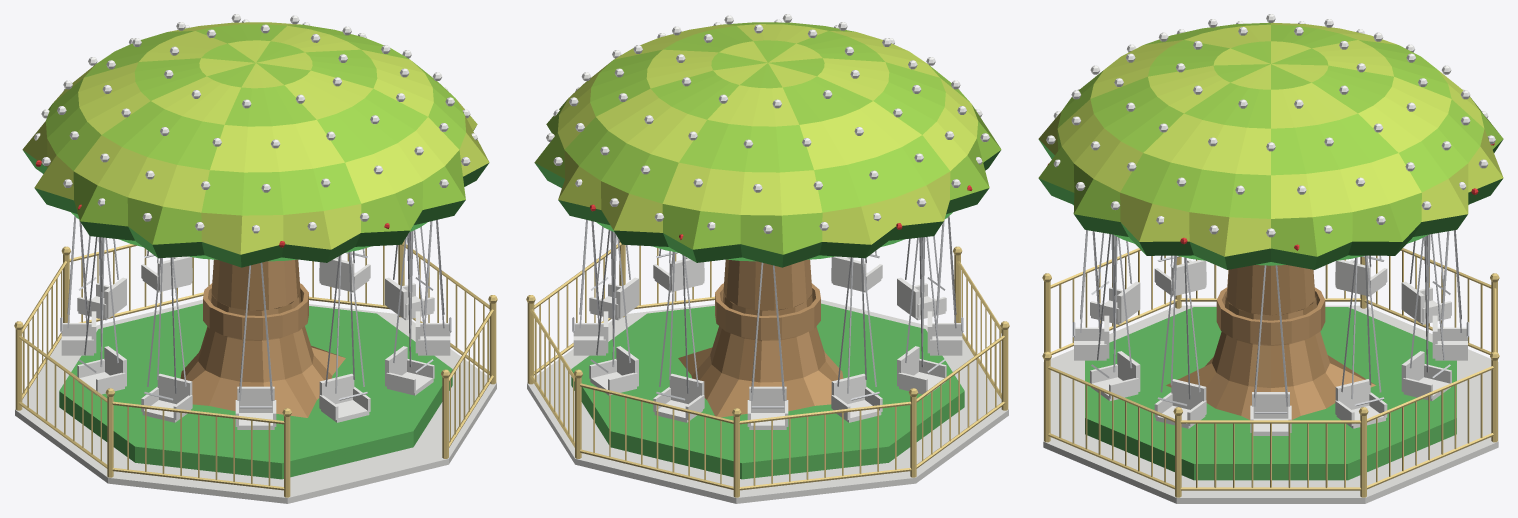
3 renders of one model, left to right at view 1: azimuth 30°, elevation 25°; view 2: azimuth 150°, elevation 25°; view 3: azimuth 270°, elevation 25°, orthographic.
Visible parts, largest first — view 1: rotor, base, swing9, swing7, swing10, swing6, swing8, swing5, swing11, swing0, swing4, swing3 (+1 smaller); view 2: rotor, base, swing3, swing5, swing2, swing6, swing4, swing7, swing1, swing0, swing8, swing9 (+1 smaller); view 3: rotor, base, swing1, swing11, swing2, swing10, swing0, swing3, swing9, swing4, swing8, swing5 (+1 smaller).
Part boxes in pixels (x1=…): rotor: x1=22, y1=14, x2=489, y2=310; base: x1=14, y1=240, x2=497, y2=503; swing9: x1=319, y1=251, x2=370, y2=422; swing7: x1=141, y1=257, x2=192, y2=422; swing10: x1=385, y1=230, x2=434, y2=395; swing6: x1=77, y1=236, x2=126, y2=395; swing8: x1=235, y1=262, x2=276, y2=429; swing5: x1=60, y1=216, x2=96, y2=355; swing11: x1=415, y1=219, x2=451, y2=355; swing0: x1=385, y1=226, x2=434, y2=320; swing4: x1=77, y1=236, x2=126, y2=320; swing3: x1=141, y1=250, x2=192, y2=292; rotor: x1=534, y1=14, x2=1001, y2=310; base: x1=526, y1=240, x2=1009, y2=503; swing3: x1=653, y1=251, x2=704, y2=422; swing5: x1=831, y1=257, x2=882, y2=422; swing2: x1=589, y1=230, x2=638, y2=395; swing6: x1=897, y1=236, x2=946, y2=395; swing4: x1=747, y1=262, x2=788, y2=429; swing7: x1=927, y1=216, x2=963, y2=355; swing1: x1=572, y1=219, x2=608, y2=355; swing0: x1=589, y1=226, x2=638, y2=320; swing8: x1=897, y1=236, x2=946, y2=320; swing9: x1=831, y1=250, x2=882, y2=292; rotor: x1=1038, y1=14, x2=1503, y2=315; base: x1=1042, y1=248, x2=1499, y2=503; swing1: x1=1335, y1=255, x2=1387, y2=428; swing11: x1=1154, y1=255, x2=1206, y2=428; swing2: x1=1401, y1=234, x2=1451, y2=400; swing10: x1=1090, y1=234, x2=1140, y2=400; swing0: x1=1250, y1=265, x2=1291, y2=435; swing3: x1=1432, y1=230, x2=1469, y2=360; swing9: x1=1072, y1=230, x2=1109, y2=360; swing4: x1=1401, y1=233, x2=1451, y2=324; swing8: x1=1090, y1=233, x2=1140, y2=324; swing5: x1=1335, y1=255, x2=1387, y2=296.
Bounding box in the file's own units: 5.67 × 4.63 × 5.67.
